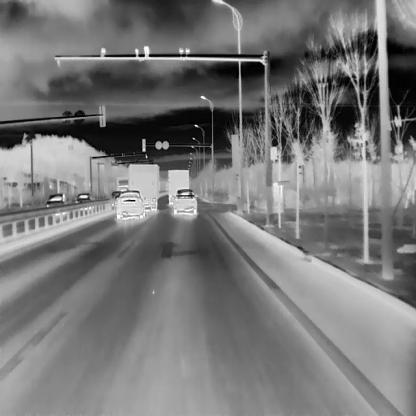car: (116, 190, 147, 218), (172, 188, 197, 214), (46, 192, 66, 206), (75, 192, 91, 203), (111, 190, 121, 201)
truck: (128, 164, 156, 211), (167, 169, 188, 204), (116, 176, 128, 192)
